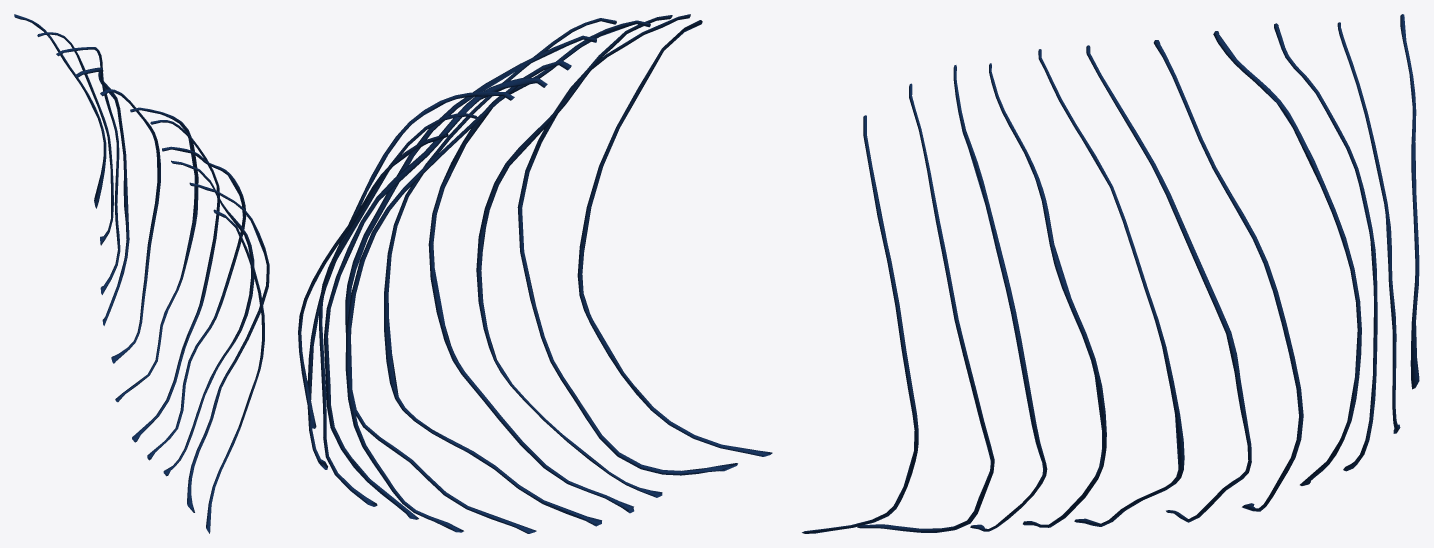
File: L venae rami intercostales ventrales.fbx
The picture shows the model from 3 angles, left to right: view 1: azimuth 30°, elevation 25°; view 2: azimuth 150°, elevation 25°; view 3: azimuth 270°, elevation 25°; orthographic projection. The views are drawn at different scales.
Visible parts, largest first — view 1: L venae rami intercostales ventrales, L venae rami intercostales ventrales low; view 2: L venae rami intercostales ventrales, L venae rami intercostales ventrales low; view 3: L venae rami intercostales ventrales, L venae rami intercostales ventrales low.
Part boxes in pixels (left/top/right/bottom): L venae rami intercostales ventrales: left=14, top=15, right=269, bottom=533; L venae rami intercostales ventrales low: left=14, top=14, right=268, bottom=533; L venae rami intercostales ventrales: left=298, top=14, right=772, bottom=533; L venae rami intercostales ventrales low: left=298, top=17, right=771, bottom=531; L venae rami intercostales ventrales: left=802, top=14, right=1419, bottom=533; L venae rami intercostales ventrales low: left=802, top=14, right=1419, bottom=533.
Size of the model in its own units: 16.37 by 41.44 by 43.94.
